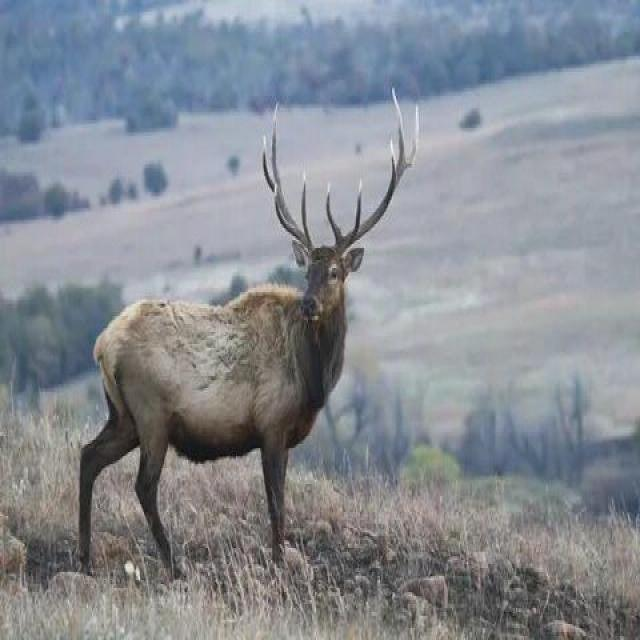deer: (82, 88, 413, 592)
